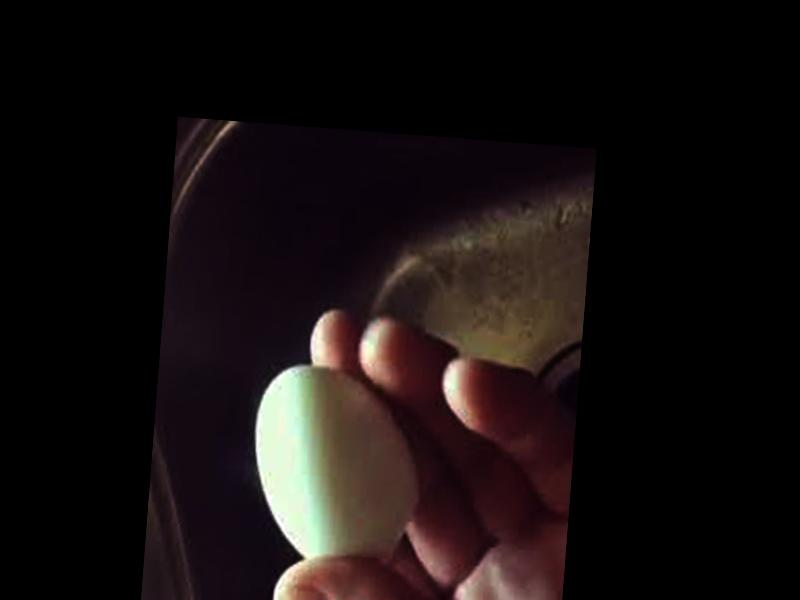Eggs: (245, 365, 422, 570)
